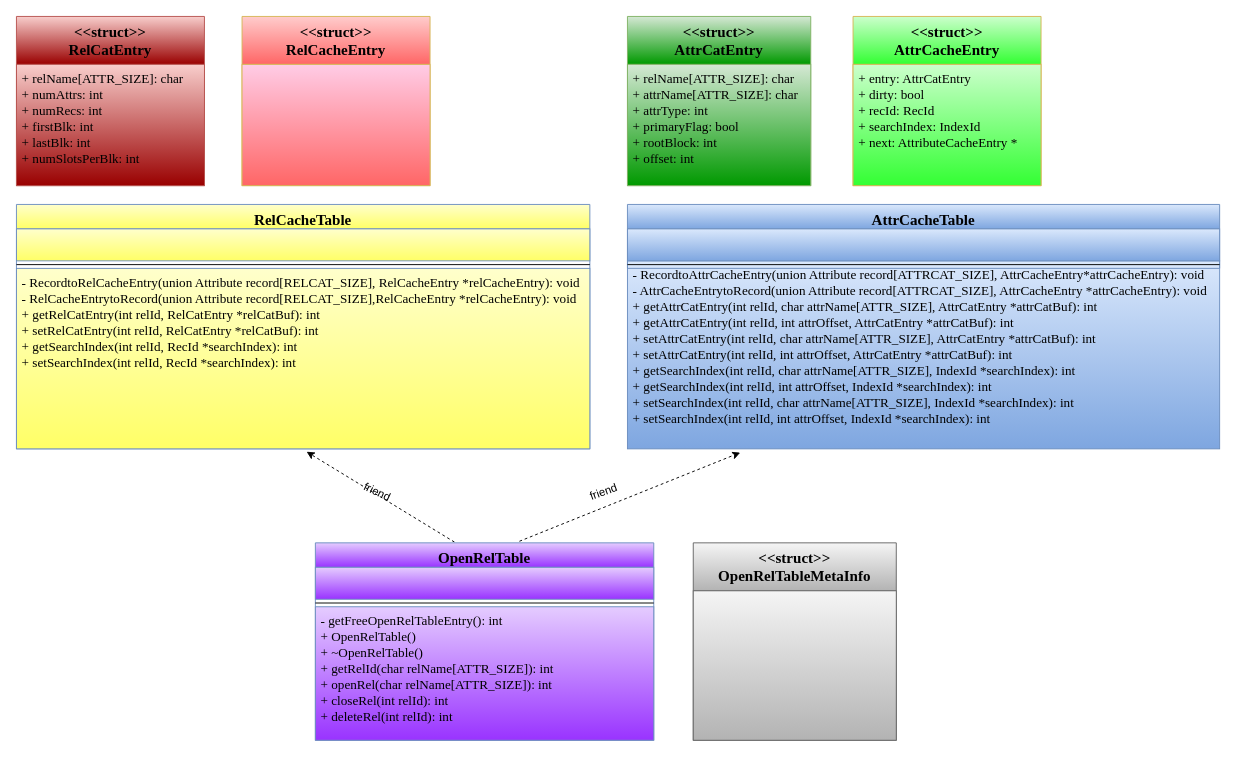
Image size: 1236x760. Some labels were removed from this diagram. The centre of each missing label's shape, as x and y in pixels:
"+ entry: RelCatEntry + dirty: bool + recId: RecId + searchIndex: RecId" belongs at point 335,124.
"+ free: bool + relName[ATTR_SIZE]: char" belongs at point 794,665.
"- attrCache[MAXOPEN]: AttrCacheEntry*" belongs at point 923,244.
"- relCache[MAXOPEN]: RelCacheEntry*" belongs at point 303,244.
"- tableMetaInfo[MAXOPEN]: OpenRelTableMetaInfo" belongs at point 484,582.
